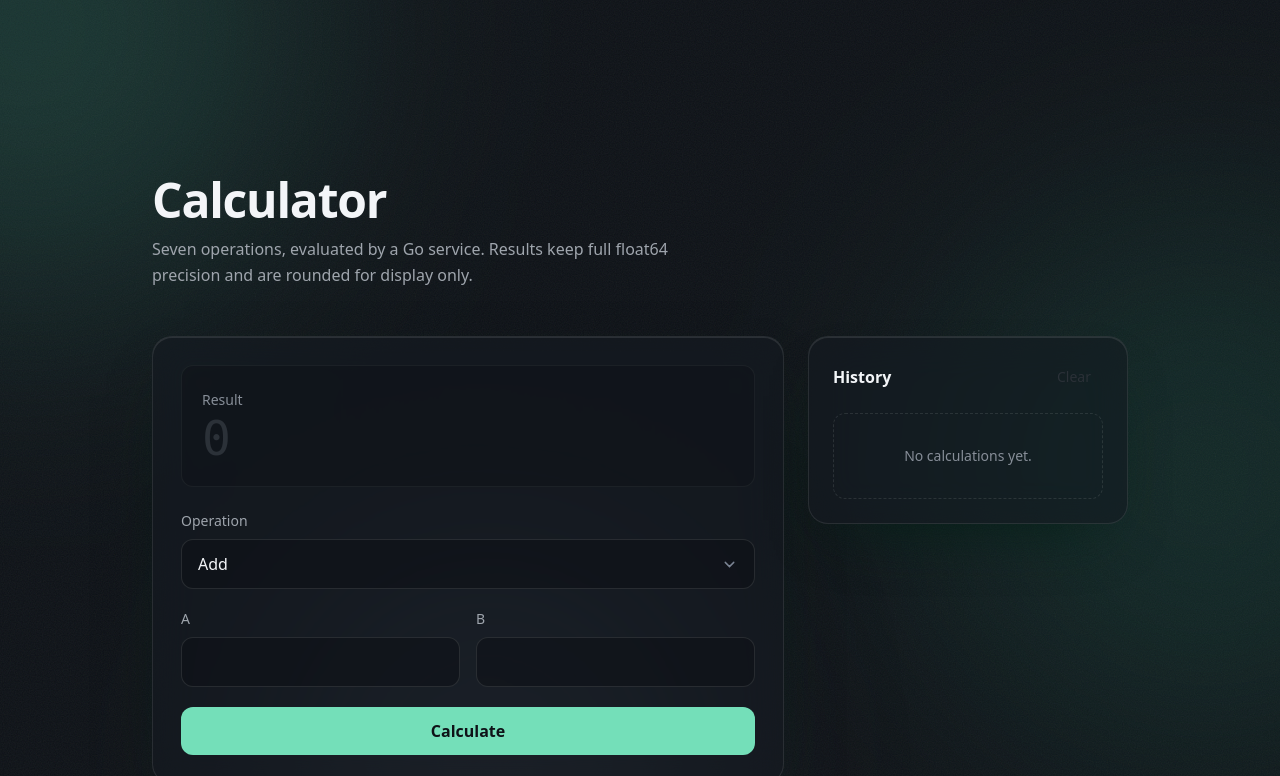
Test case: App › then renders the server error message
Type "12" into the field labelled "A" at point(320, 662), box [181, 637, 460, 687]
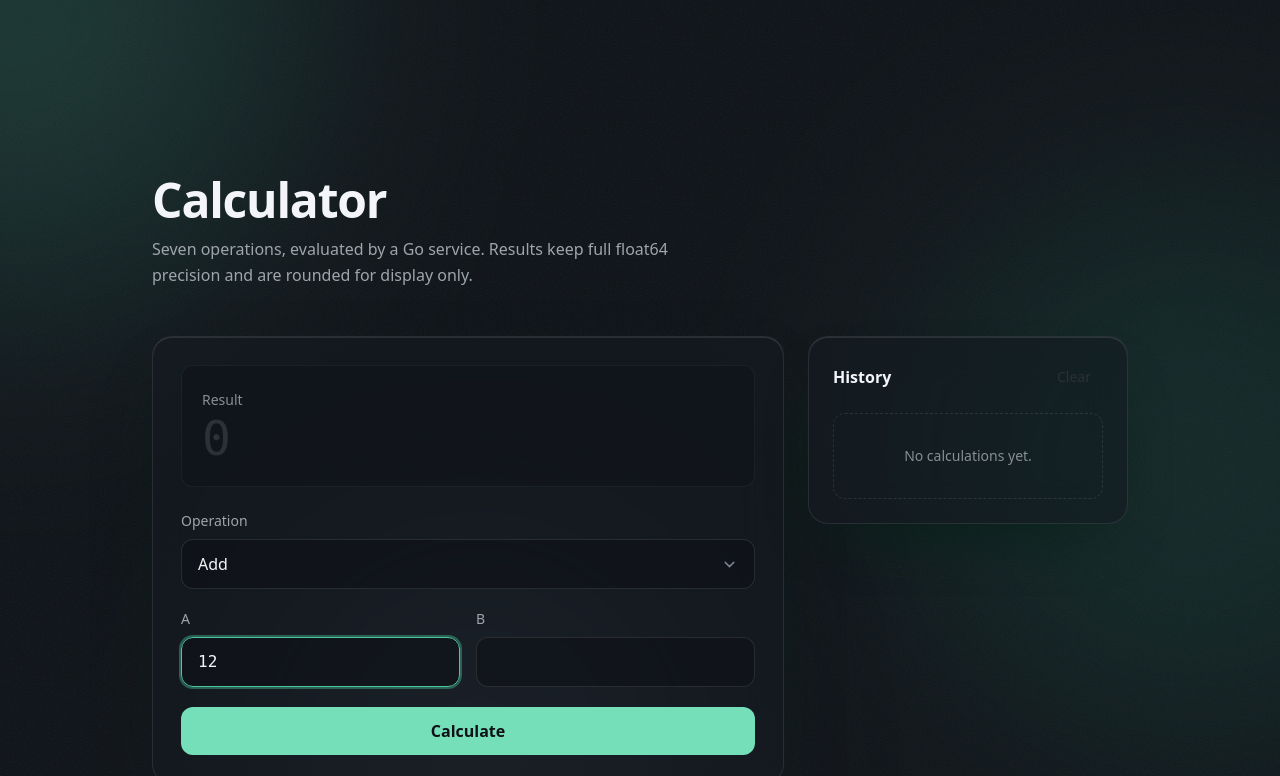
Type "0" into the field labelled "B" at point(616, 662), box [476, 637, 755, 687]
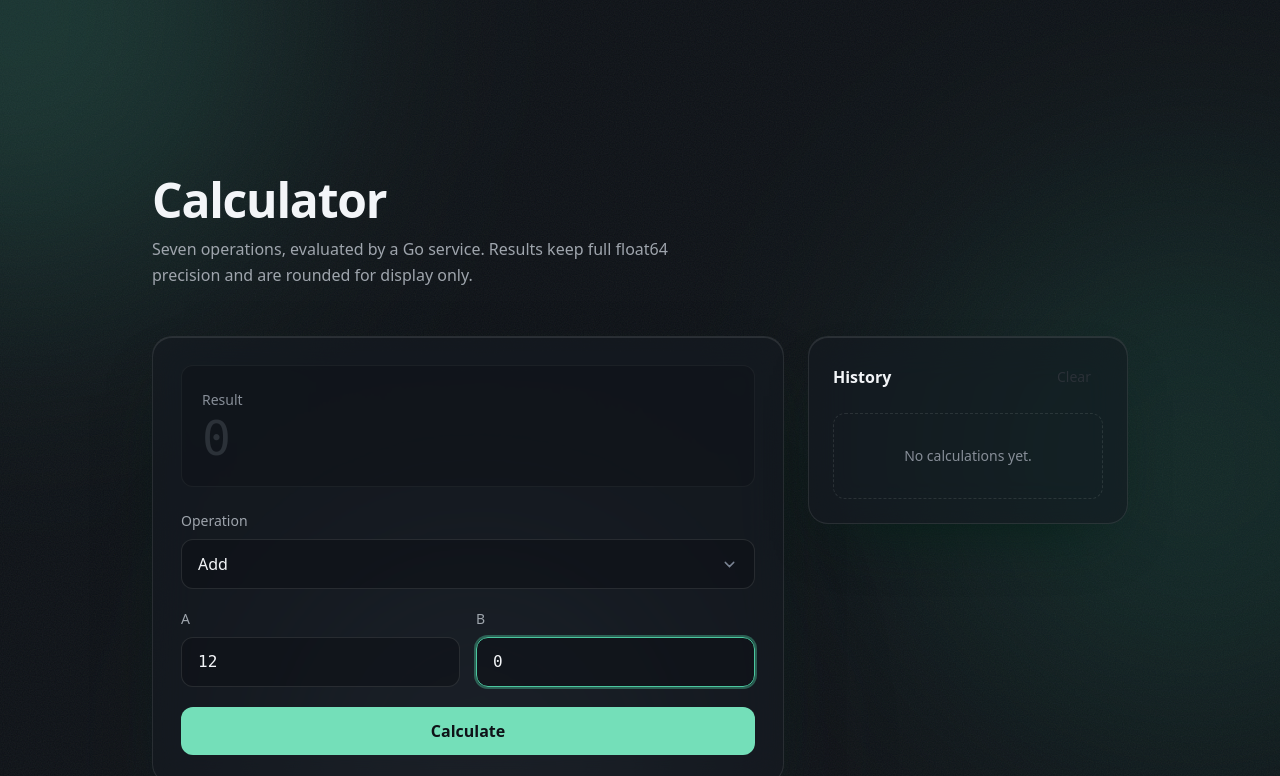
Select "Divide" in the dropdown labelled "Operation" at point(468, 564), box [181, 539, 755, 589]
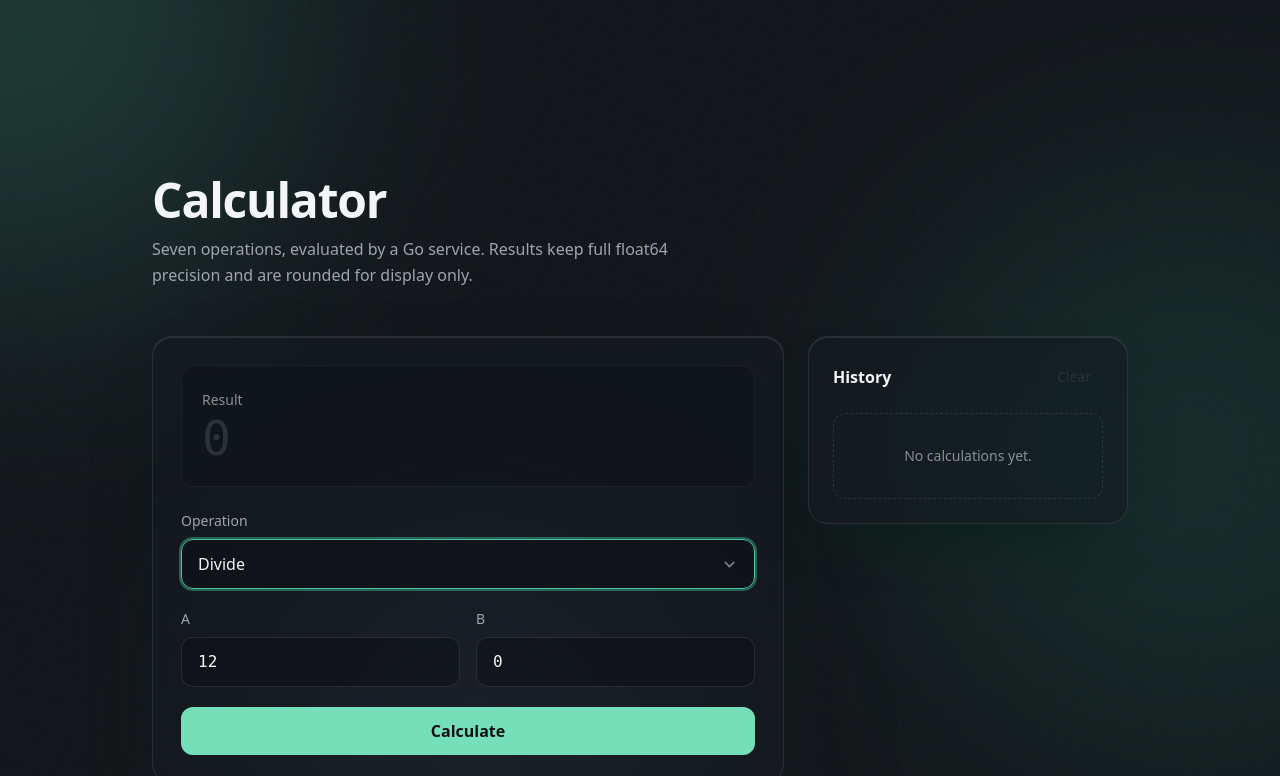
Click the button "Calculate" at point(468, 731), box [181, 707, 755, 755]
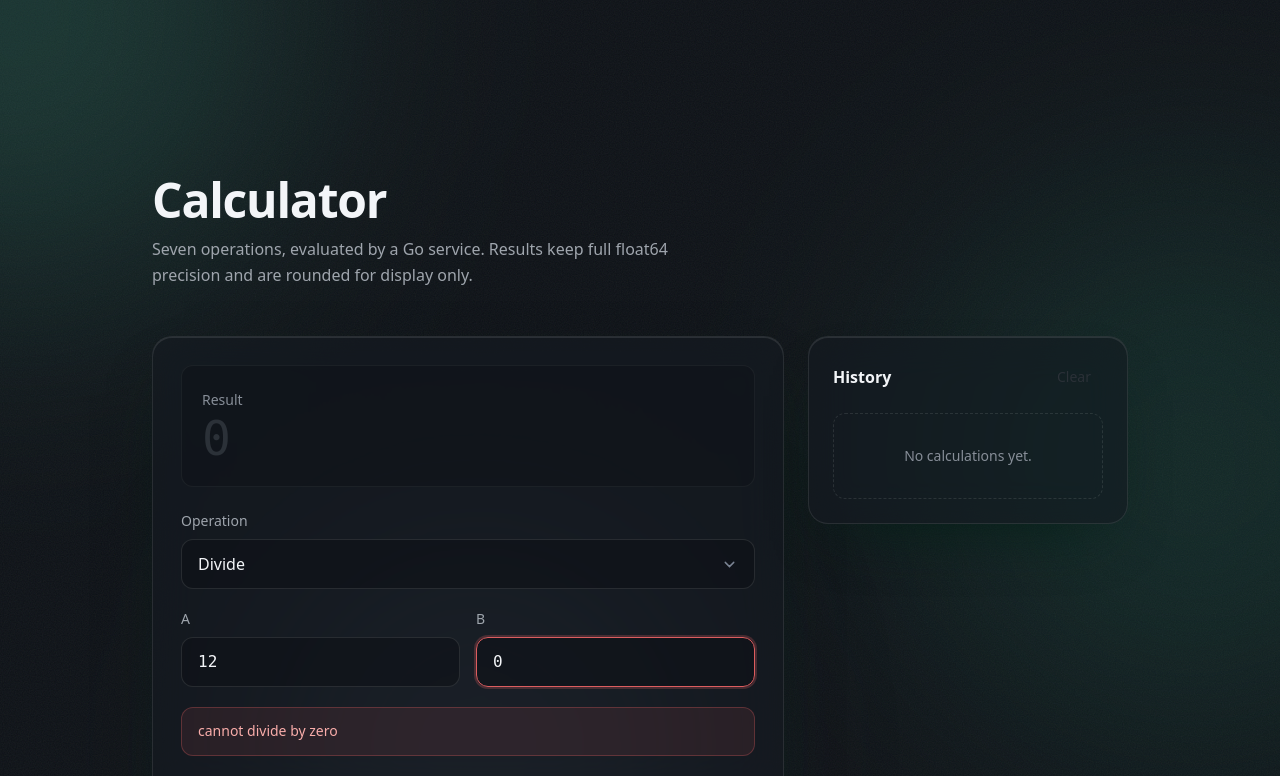
Expected: the message reads "cannot divide by zero", [198, 721, 338, 740]
